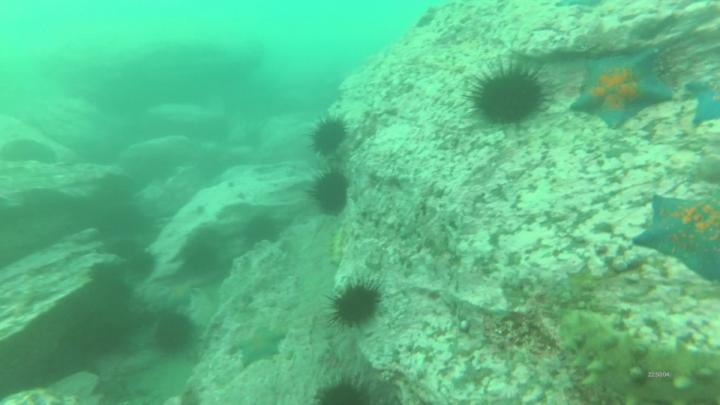echinus: (464, 56, 554, 130), (327, 275, 385, 332), (306, 170, 353, 217), (152, 311, 197, 360), (306, 113, 350, 160), (313, 375, 378, 405), (185, 241, 221, 278), (244, 215, 281, 245), (88, 260, 123, 291), (124, 250, 160, 278), (412, 10, 436, 32)
holothurian: (554, 307, 720, 405), (328, 222, 347, 267)
starfish: (572, 49, 678, 132), (630, 192, 720, 286), (228, 327, 290, 370), (684, 75, 720, 131)
